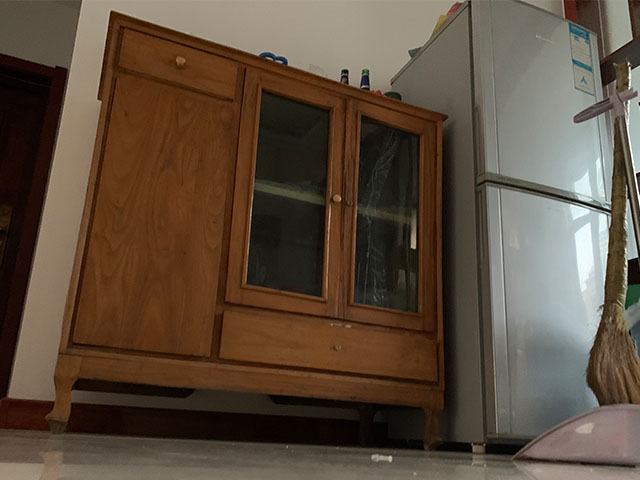cabinet: (43, 8, 451, 452)
